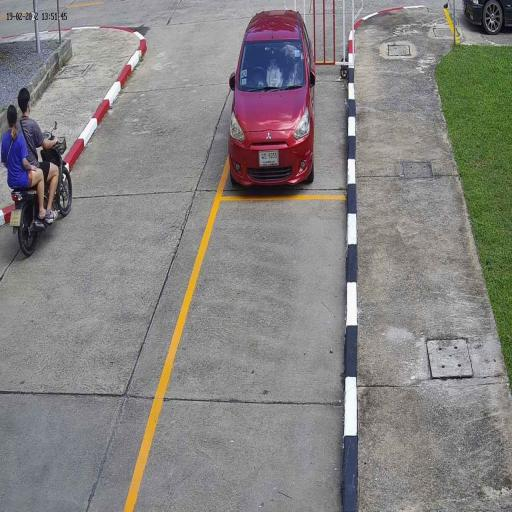car: (226, 10, 318, 195)
motorcycle: (8, 166, 74, 260)
